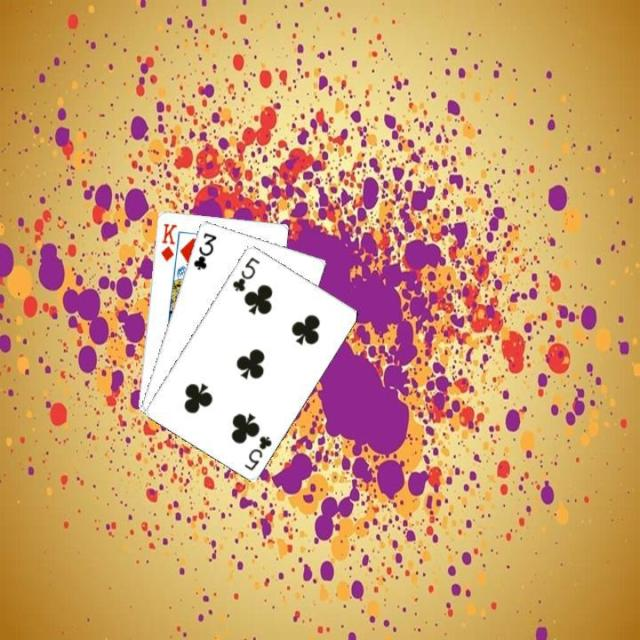3C: (189, 229, 219, 271)
5C: (228, 252, 262, 294), (240, 431, 274, 472)
KD: (156, 220, 178, 263)
